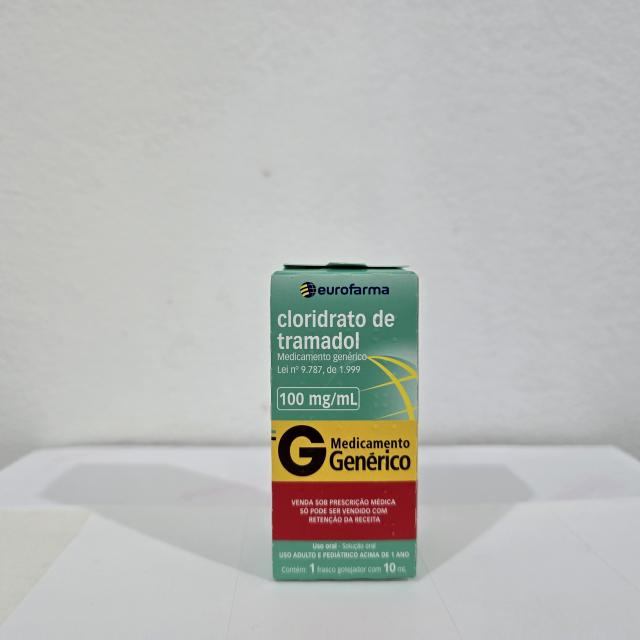tramadol: (265, 259, 423, 586)
